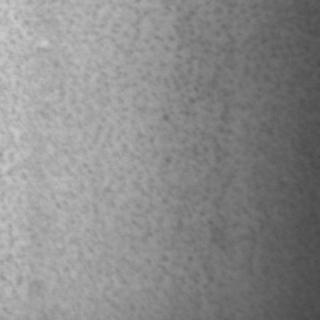pitted_surface: (1, 0, 188, 314), (142, 0, 318, 296)
